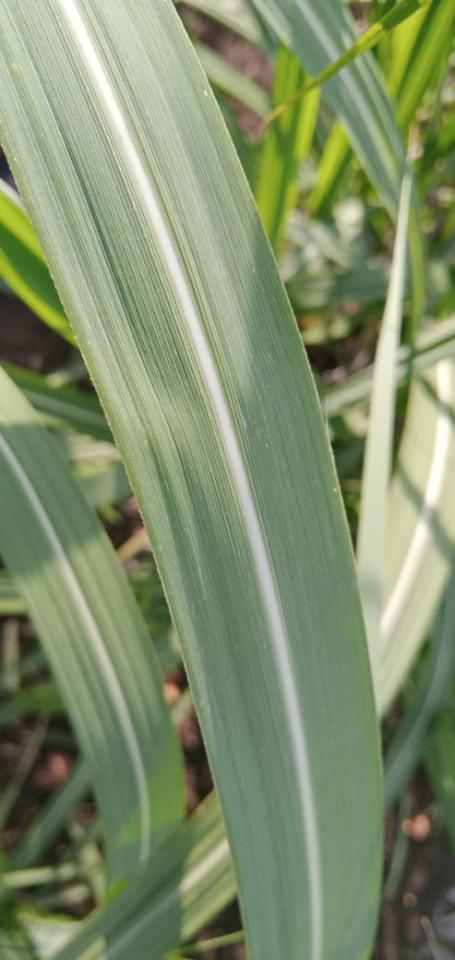Healthy: (0, 0, 316, 959), (74, 0, 382, 959), (0, 366, 185, 860), (0, 447, 142, 897)
